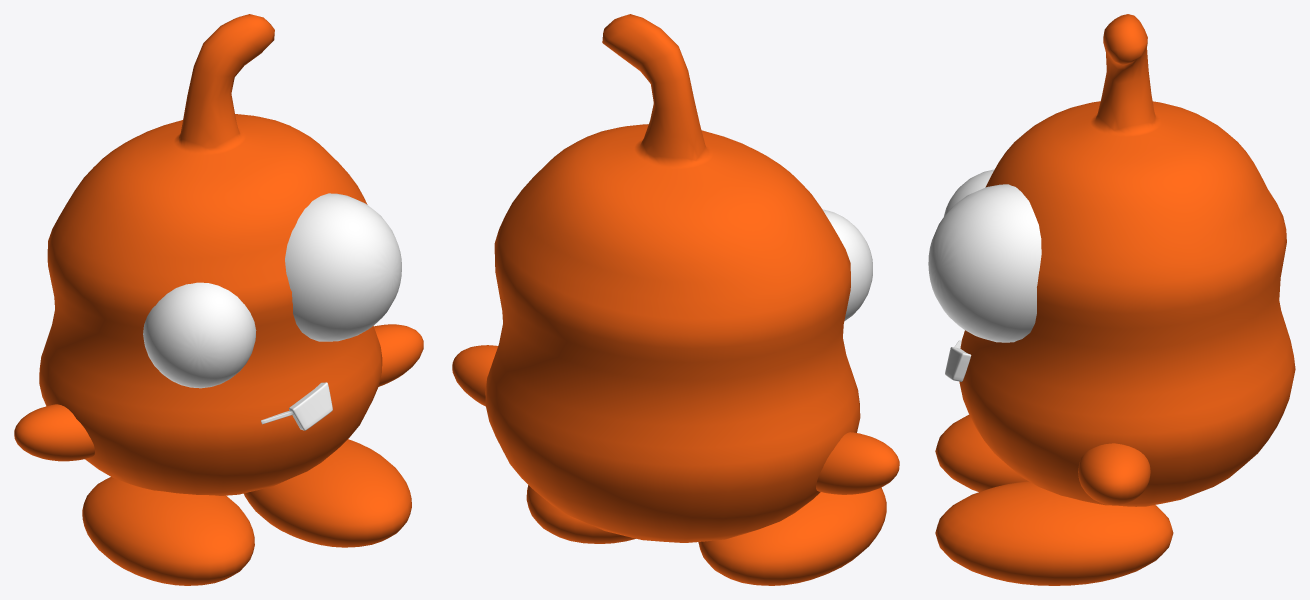
The model's file is Toddly.fbx.
3 renders of one model, left to right at view 1: azimuth 30°, elevation 25°; view 2: azimuth 150°, elevation 25°; view 3: azimuth 270°, elevation 25°, orthographic. The views are drawn at different scales.
Parts seen in each view (by area): view 1: Sphere001, Sphere002, Sphere007, Sphere004, Sphere006, Sphere003, Sphere005, Box002; view 2: Sphere001, Sphere002, Sphere003, Sphere006, Sphere004, Sphere005; view 3: Sphere001, Sphere004, Sphere007, Sphere002, Sphere005, Box002, Sphere006.
Boxes of the visible parts, <box> form: Sphere001: <box>39,14,382,495</box>; Sphere002: <box>82,477,254,585</box>; Sphere007: <box>285,193,401,341</box>; Sphere004: <box>243,439,411,547</box>; Sphere006: <box>143,282,256,388</box>; Sphere003: <box>14,404,94,461</box>; Sphere005: <box>374,324,423,386</box>; Box002: <box>261,382,332,430</box>; Sphere001: <box>485,14,860,542</box>; Sphere002: <box>698,487,886,585</box>; Sphere003: <box>816,432,899,494</box>; Sphere006: <box>822,209,872,320</box>; Sphere004: <box>526,485,635,543</box>; Sphere005: <box>452,345,497,406</box>; Sphere001: <box>959,14,1295,506</box>; Sphere004: <box>935,481,1173,585</box>; Sphere007: <box>928,184,1041,342</box>; Sphere002: <box>935,415,1028,491</box>; Sphere005: <box>1078,443,1150,505</box>; Box002: <box>945,340,971,381</box>; Sphere006: <box>944,169,994,216</box>.
Size of the model in its own units: 55.14 by 64.88 by 40.71.
